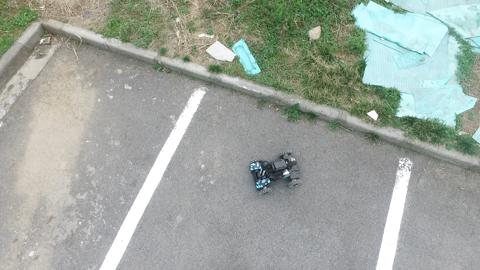chariot: (245, 146, 306, 200)
